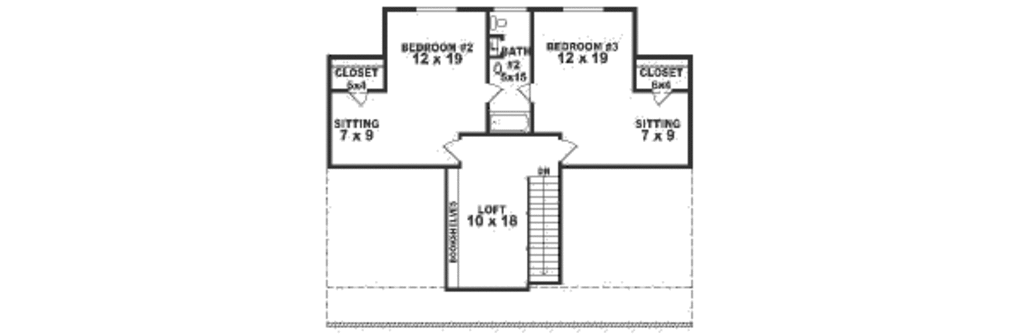door: (556, 138, 578, 163), (443, 137, 463, 160)
stairs: (523, 165, 560, 287)
tub: (484, 109, 534, 135)
windows: (410, 4, 462, 15), (558, 4, 601, 15)
